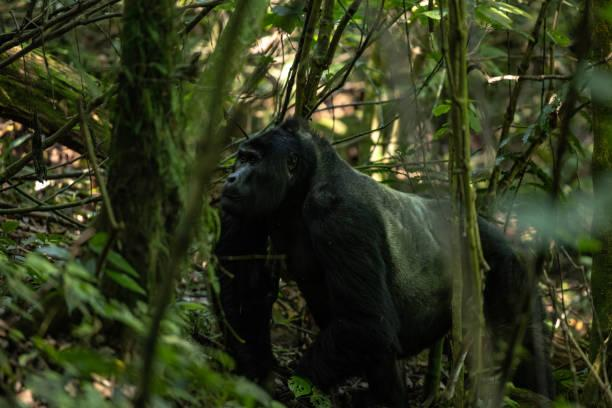goriile_montagne: (195, 112, 604, 374)
